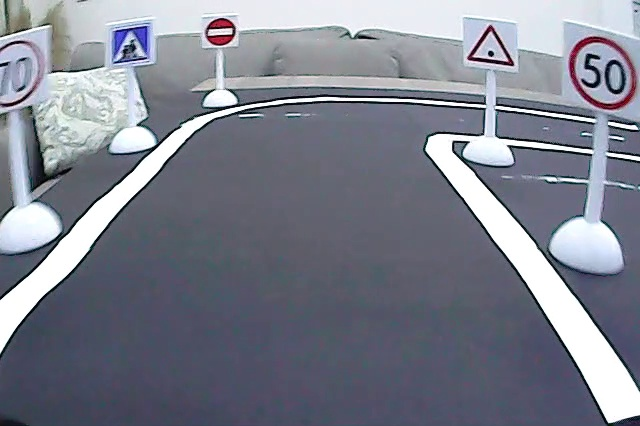do not enter: (204, 15, 239, 49)
green light: (464, 20, 517, 70)
school crossing: (109, 21, 153, 70)
speed limit 50: (566, 30, 640, 114)
speed limit 70: (1, 38, 47, 112)
